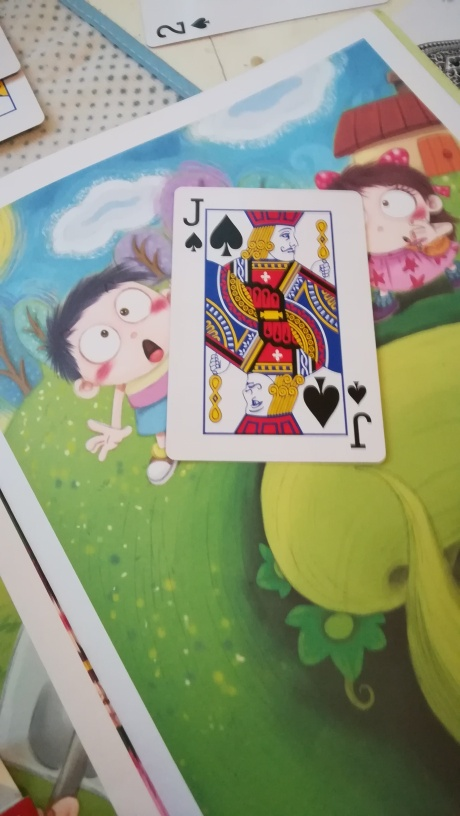ht j: (163, 183, 390, 468)
